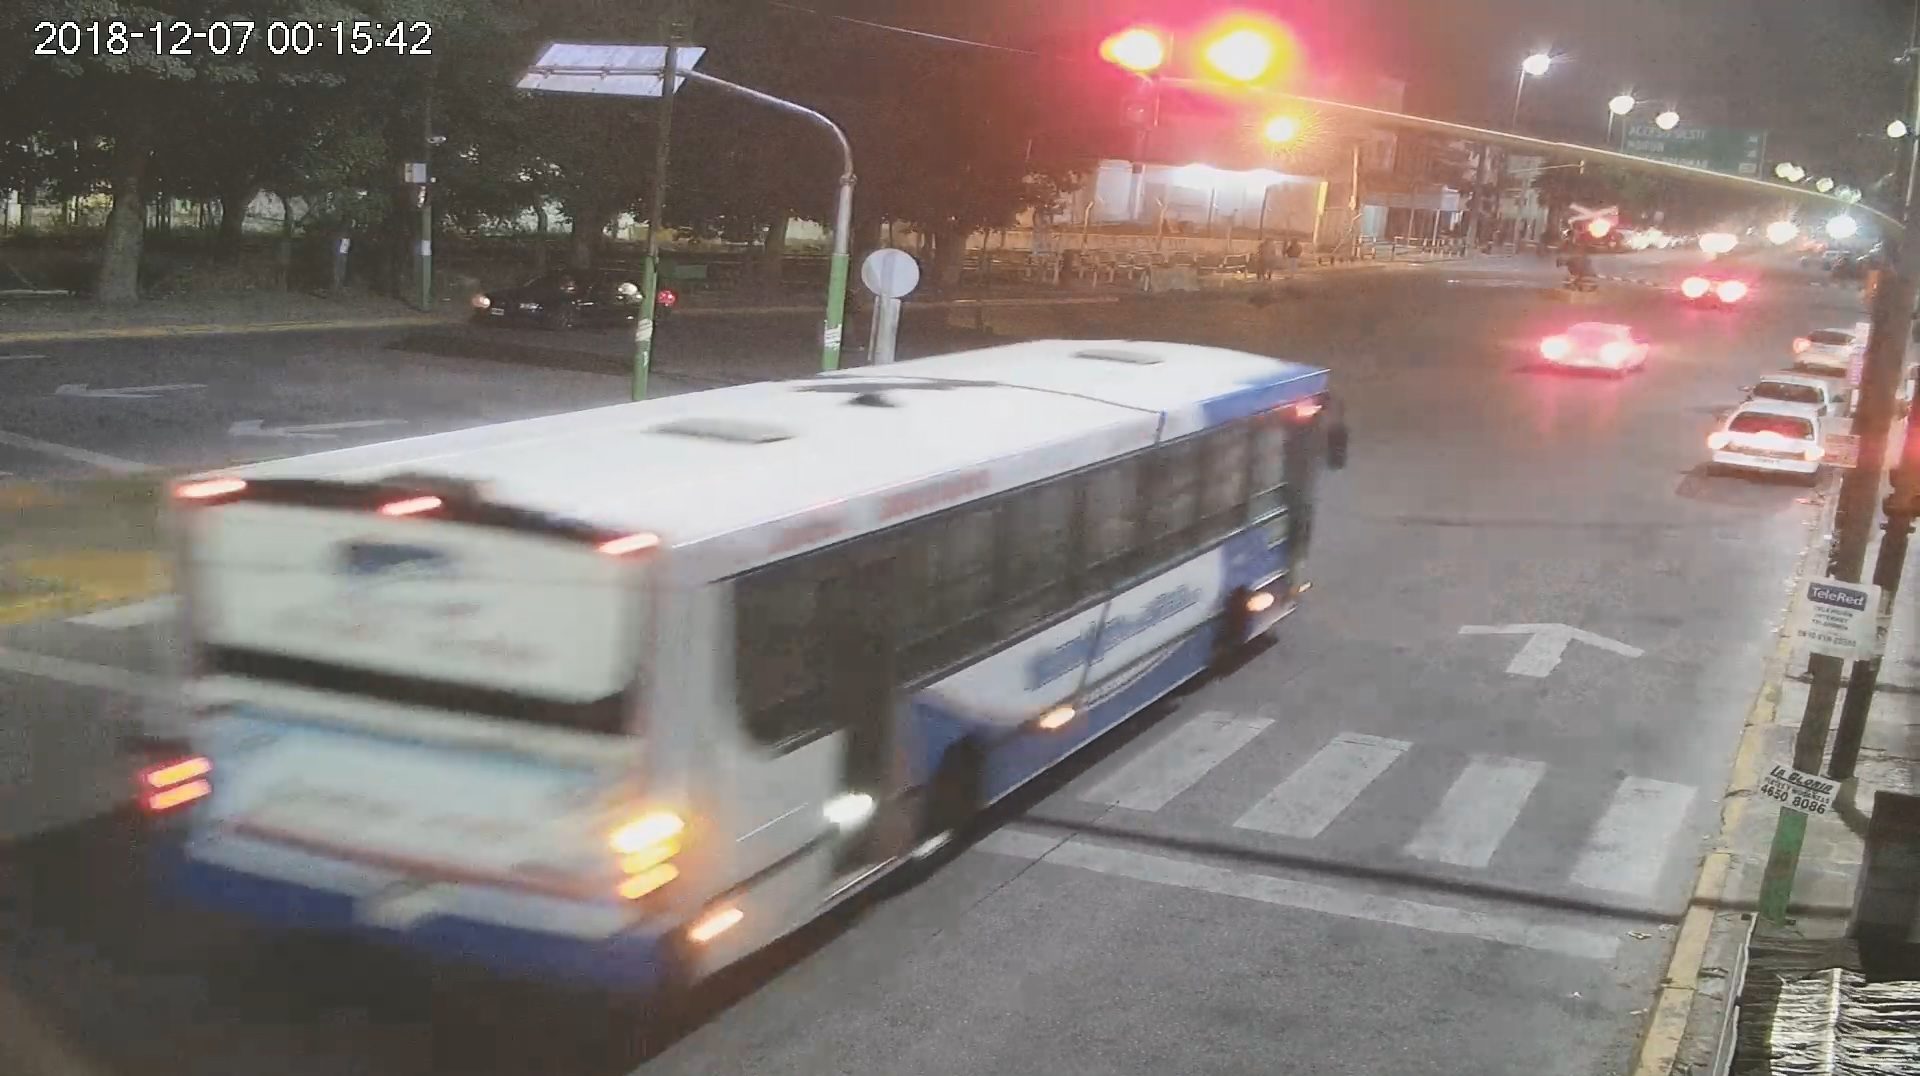bus: (131, 320, 1367, 1021)
car: (462, 257, 686, 351), (1669, 396, 1845, 488), (1520, 316, 1669, 390)
